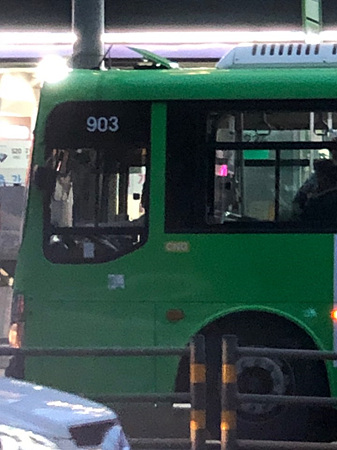bnum: (83, 112, 122, 134)
